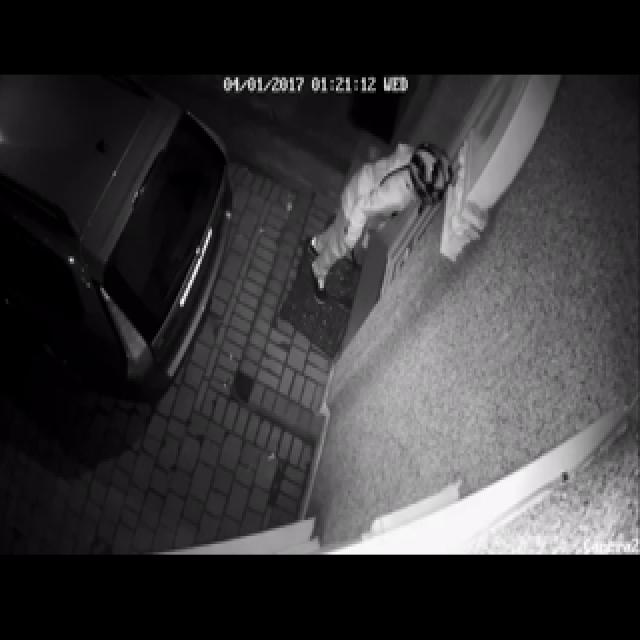burglary: (274, 75, 538, 485)
